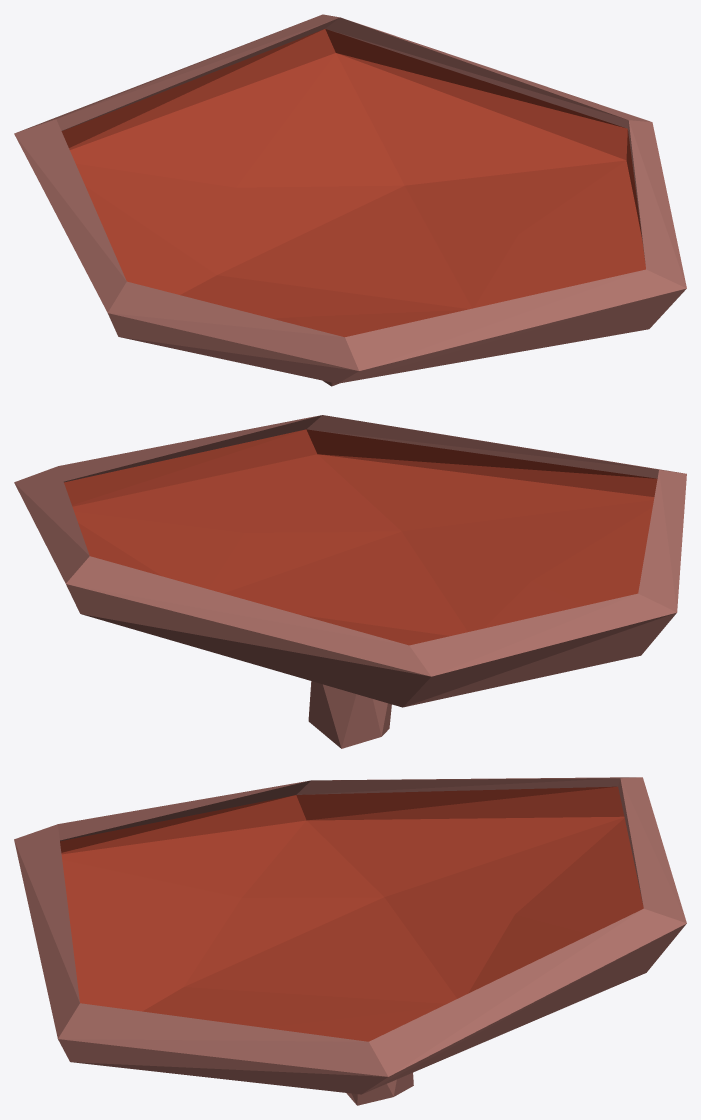
Rendered from SENE_EDAMA-005.FBX.
3 views of the same model, one above another, from view 1: azimuth 30°, elevation 25°; view 2: azimuth 150°, elevation 25°; view 3: azimuth 270°, elevation 25° (orthographic). The views are drawn at different scales.
Visible parts, largest first — view 1: SENE_EDAMA-005; view 2: SENE_EDAMA-005; view 3: SENE_EDAMA-005.
Part boxes in pixels (x1,y1,x2,y2): SENE_EDAMA-005: (14,14,686,386); SENE_EDAMA-005: (14,415,686,748); SENE_EDAMA-005: (14,777,686,1105).
Size of the model in its own units: 1244 by 466 by 1153.
Materials: 1 (1 with a texture image).
